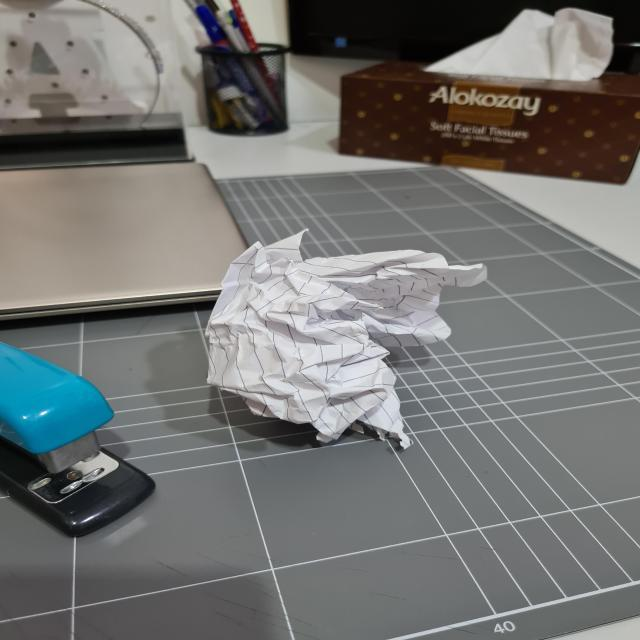cardboard paper: (205, 231, 485, 446), (425, 7, 611, 79)
